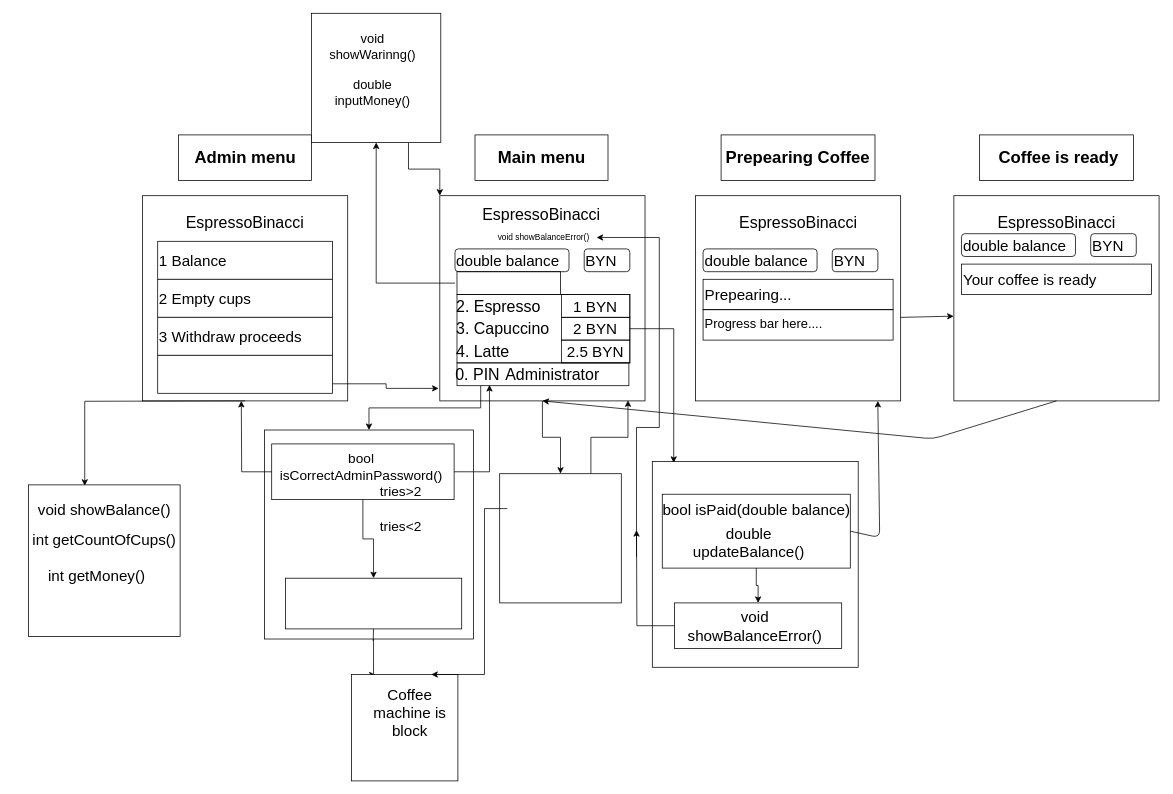
This 1173x794 diagram has some shape labels left out. The shapes that lost their labels are listed below. From the top down, each one's box as (x1, y1, x2, y2) in pixels, then its label:
(456, 271, 560, 294): 1 Input money
(157, 355, 332, 393): 0 Return to Main menu
(499, 473, 621, 603): bool isEmptyCup()
(285, 577, 462, 629): bool isBlockMachine()
